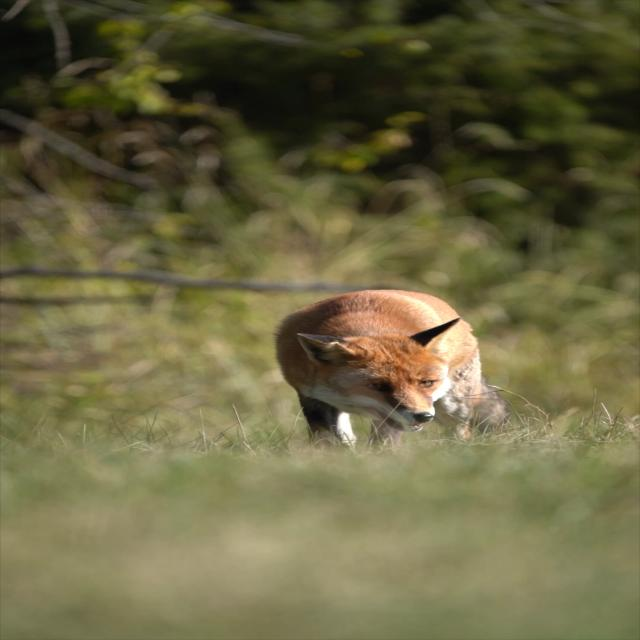fox: (235, 269, 575, 466)
